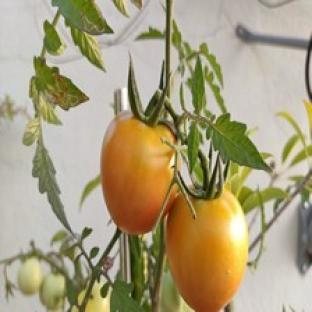Tomato: (166, 190, 247, 311), (101, 112, 174, 233), (161, 271, 192, 311), (17, 258, 43, 295), (41, 273, 65, 310), (85, 283, 110, 311)
